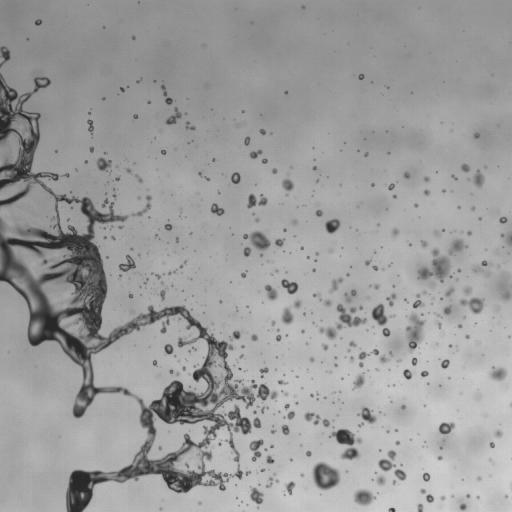droplet: (318, 304, 366, 339), (418, 248, 451, 282), (329, 429, 362, 459), (378, 450, 406, 480), (312, 462, 340, 490), (243, 231, 270, 250), (460, 297, 483, 314), (371, 303, 388, 325), (354, 489, 375, 505), (249, 439, 263, 461), (247, 194, 267, 208), (473, 260, 490, 276), (359, 407, 376, 423), (448, 239, 466, 254), (488, 366, 506, 381), (119, 255, 135, 271), (281, 279, 298, 294), (250, 486, 263, 504), (325, 218, 340, 233), (96, 157, 111, 171), (438, 422, 454, 435), (281, 307, 293, 324), (265, 285, 278, 300), (473, 170, 484, 187), (353, 373, 364, 389), (210, 203, 224, 215), (344, 289, 356, 302), (282, 179, 293, 192), (413, 294, 423, 308), (500, 233, 511, 245), (164, 344, 175, 356), (285, 481, 295, 494), (266, 477, 278, 487), (387, 293, 396, 306), (375, 475, 385, 485), (231, 172, 240, 183), (250, 150, 261, 158), (459, 498, 466, 510), (275, 238, 284, 247), (445, 287, 454, 296), (185, 122, 195, 130), (379, 355, 389, 363), (403, 369, 411, 379), (243, 247, 251, 256), (463, 286, 471, 295), (441, 359, 449, 368), (260, 367, 268, 376), (285, 411, 294, 419), (281, 425, 289, 434), (159, 289, 165, 300), (461, 164, 469, 172), (443, 306, 451, 314), (382, 328, 390, 336), (323, 299, 332, 306), (392, 228, 399, 236), (294, 300, 301, 308), (494, 430, 502, 437), (266, 455, 273, 463), (423, 473, 430, 481), (421, 370, 428, 377), (164, 224, 172, 230), (411, 357, 417, 365), (388, 183, 394, 190), (315, 210, 322, 216), (499, 217, 506, 223), (421, 240, 427, 247), (503, 292, 510, 298), (251, 334, 257, 341), (349, 341, 356, 347), (417, 504, 423, 511), (244, 137, 249, 145), (35, 19, 41, 25), (321, 344, 327, 350), (276, 334, 281, 341), (278, 380, 286, 384), (358, 74, 364, 79), (404, 172, 409, 178), (292, 219, 297, 225), (434, 231, 440, 236), (241, 271, 246, 277), (282, 390, 287, 396), (284, 404, 289, 410), (261, 406, 267, 411), (388, 507, 395, 511), (260, 129, 265, 134), (474, 133, 479, 138), (262, 158, 267, 163), (126, 168, 131, 173), (272, 168, 277, 173), (451, 175, 456, 180), (424, 176, 429, 181), (424, 190, 429, 195), (365, 260, 370, 265), (374, 284, 379, 289), (190, 347, 195, 352), (489, 442, 494, 447), (306, 451, 311, 456), (155, 274, 161, 278), (430, 282, 434, 288), (180, 263, 184, 268), (422, 290, 427, 294), (129, 293, 133, 298), (271, 320, 275, 325), (309, 357, 314, 361), (440, 496, 445, 500), (137, 78, 141, 82), (120, 87, 124, 91), (133, 114, 137, 118), (89, 147, 93, 151), (161, 150, 165, 154), (312, 166, 316, 170), (255, 218, 259, 222), (467, 231, 471, 235), (373, 266, 377, 270), (349, 357, 353, 361), (401, 405, 405, 409), (271, 429, 275, 433), (395, 441, 399, 445), (438, 456, 442, 460), (466, 494, 470, 498), (64, 173, 69, 176), (358, 423, 363, 426), (364, 153, 368, 156), (198, 172, 201, 176), (115, 177, 119, 180), (205, 177, 209, 180), (113, 194, 116, 198), (465, 335, 469, 338), (397, 359, 401, 362), (153, 361, 156, 365), (182, 367, 186, 370), (477, 477, 481, 480), (393, 195, 396, 198), (414, 204, 417, 207), (329, 249, 332, 252), (457, 269, 460, 272), (391, 314, 394, 317), (458, 324, 461, 327), (301, 329, 304, 332), (158, 446, 161, 449), (261, 468, 264, 471), (393, 481, 396, 484), (132, 36, 135, 38), (471, 207, 474, 209), (119, 226, 122, 228), (112, 236, 114, 239), (449, 344, 451, 347), (334, 364, 337, 366), (310, 394, 313, 396), (253, 411, 256, 413), (218, 443, 221, 445), (300, 474, 303, 476), (198, 502, 201, 504), (302, 6, 304, 8), (285, 91, 287, 93), (372, 183, 374, 185), (457, 206, 459, 208), (442, 229, 444, 231), (156, 236, 158, 238), (176, 239, 178, 241), (316, 253, 318, 255), (144, 281, 146, 283), (405, 299, 407, 301), (303, 313, 305, 315), (347, 349, 349, 351), (389, 352, 391, 354), (240, 355, 242, 357), (328, 371, 330, 373), (316, 392, 318, 394), (478, 396, 480, 398), (505, 495, 507, 497), (477, 496, 479, 498)
ligament: (0, 73, 278, 511), (405, 313, 424, 352), (132, 195, 151, 216), (358, 349, 379, 367), (304, 412, 329, 427), (166, 108, 181, 124), (0, 46, 10, 67), (329, 277, 343, 292), (161, 85, 172, 104), (420, 488, 433, 502), (87, 120, 93, 132), (169, 369, 179, 375), (313, 293, 321, 300), (135, 175, 142, 182), (436, 320, 441, 328), (168, 270, 177, 274), (434, 313, 440, 317), (510, 483, 511, 489)
